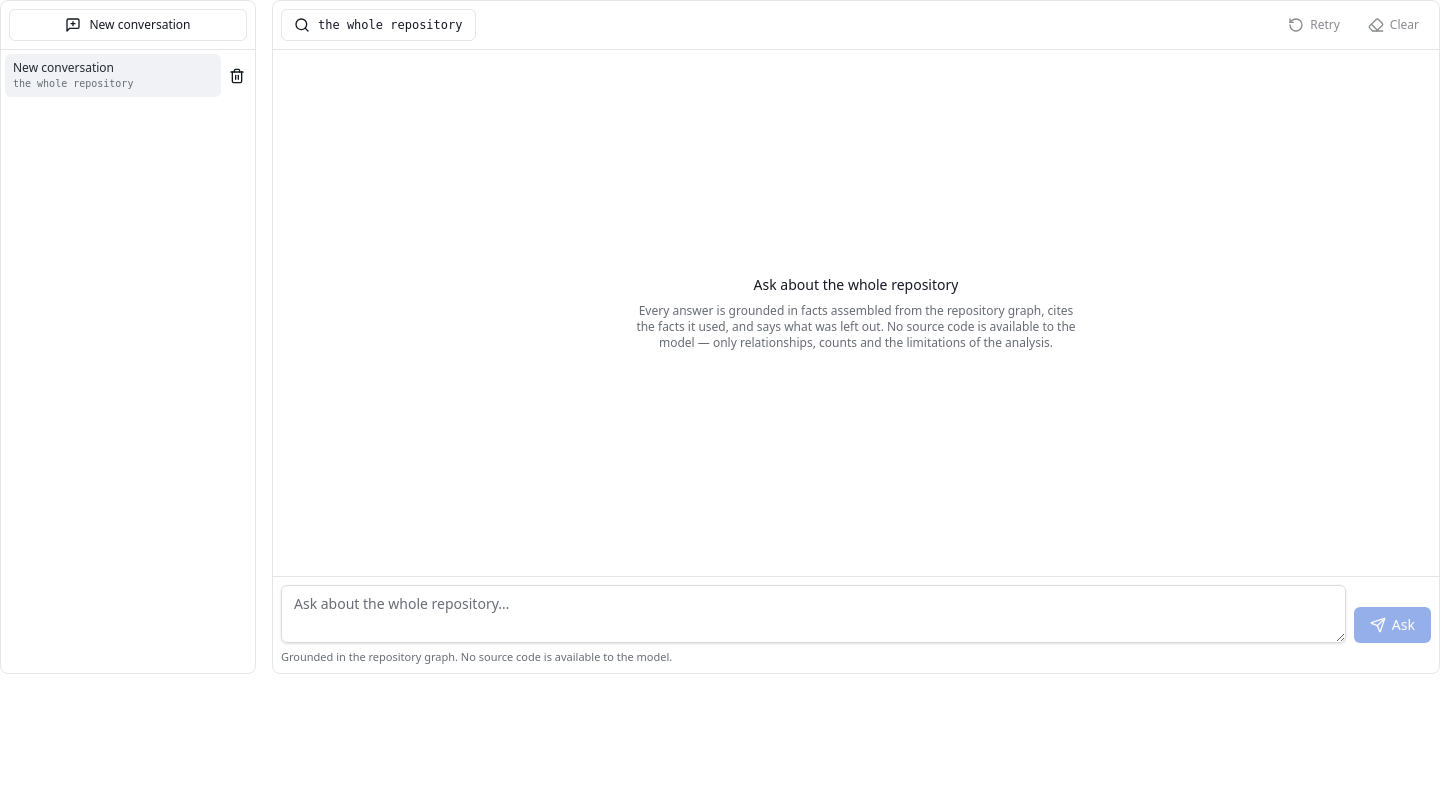
Test: asking › links an identifier in a citation to its page
Type "How many files?" into the text box named "Ask about the repository" at (813, 614), box [281,584,1346,642]
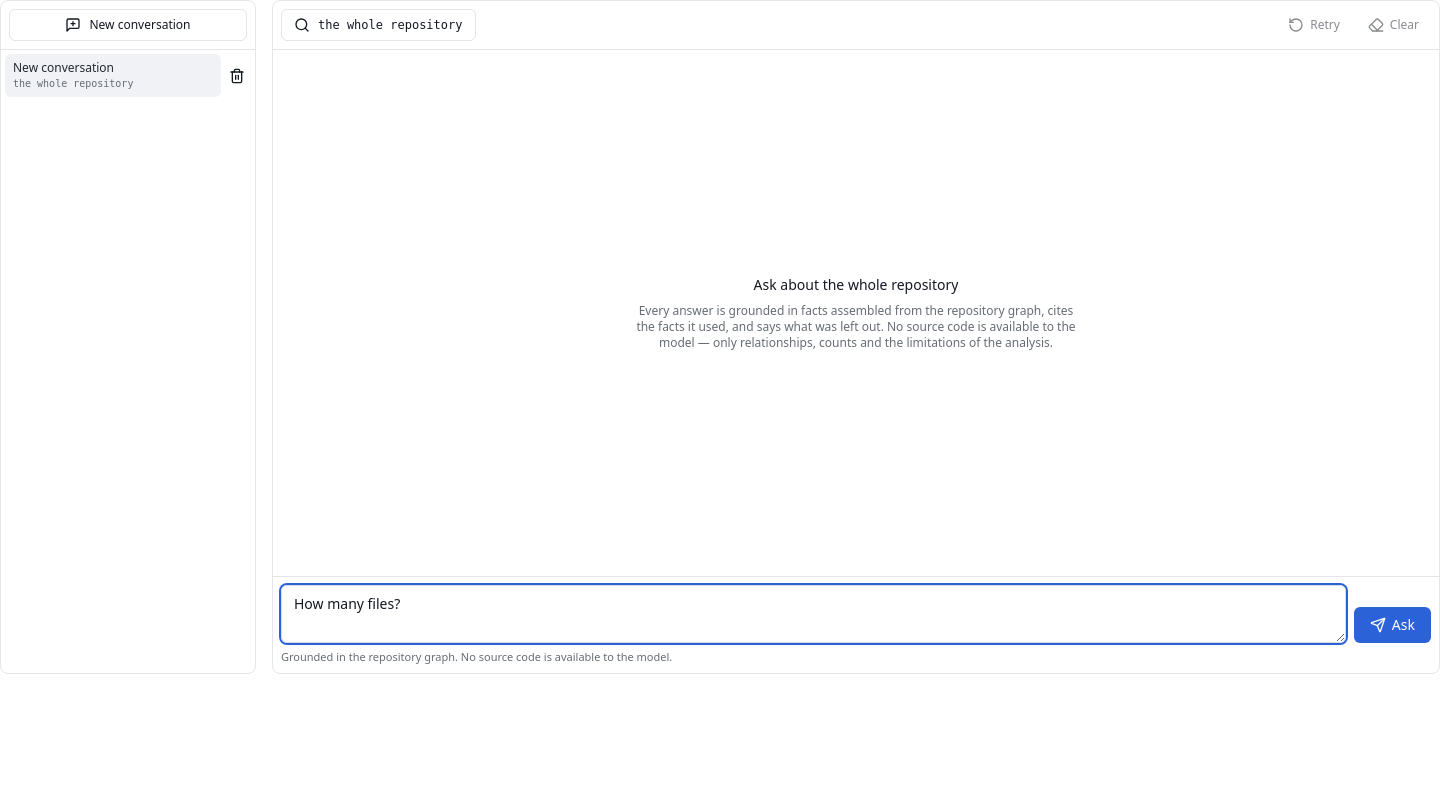
Click the button "Ask" at (1392, 624), box [1354,606,1431,642]
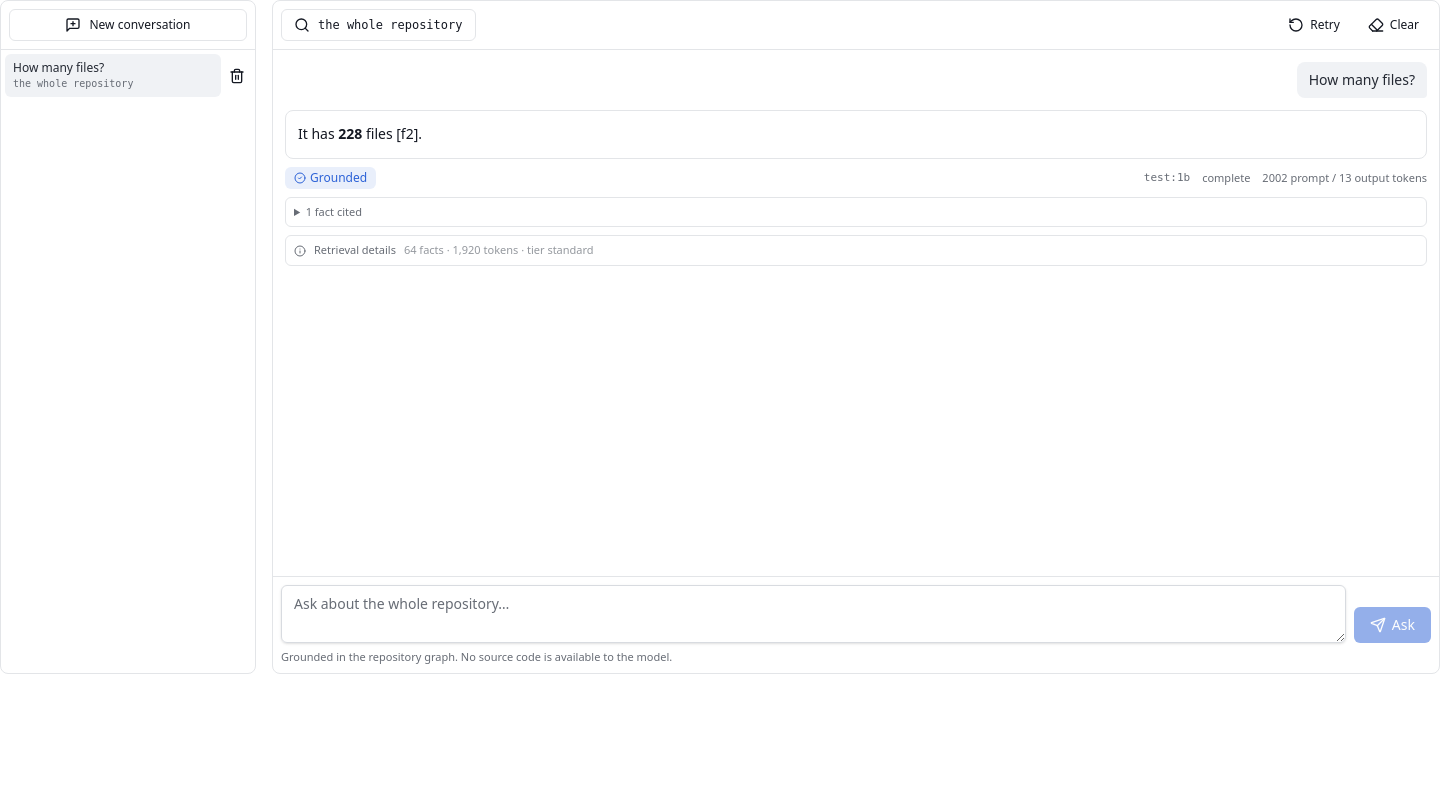
Click the heading "1 fact cited" at (334, 211), box [306,204,362,219]
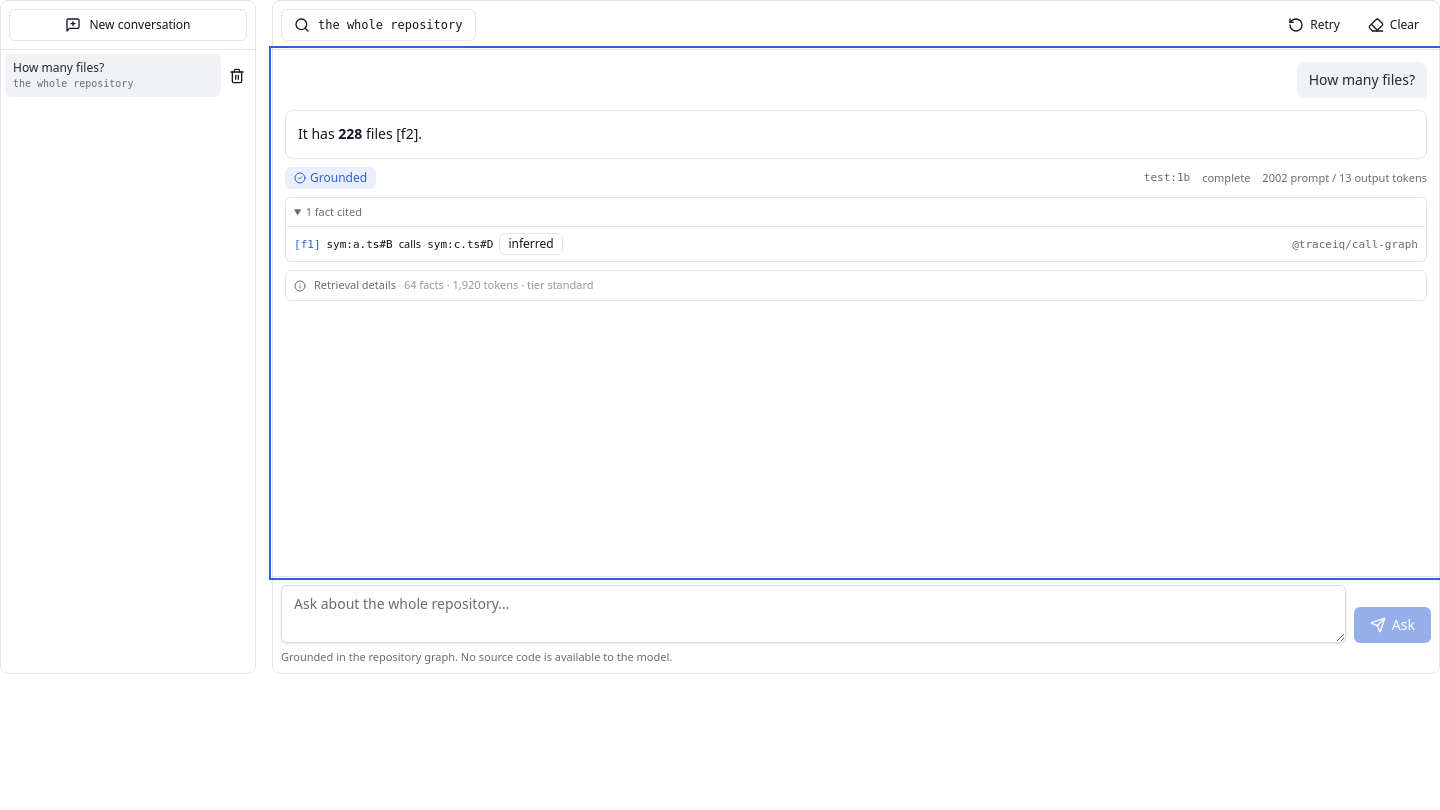
Expected: the link "sym:c.ts#D" is shown, [427,237,493,254]
